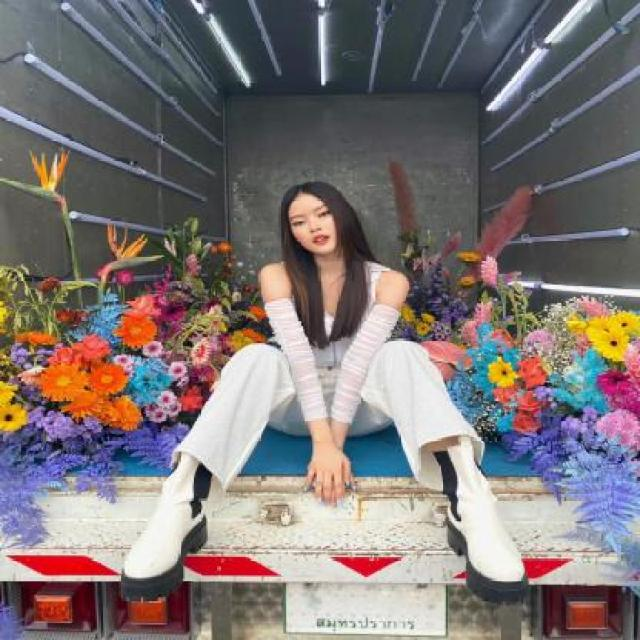sem_oculos: (282, 207, 347, 228)
